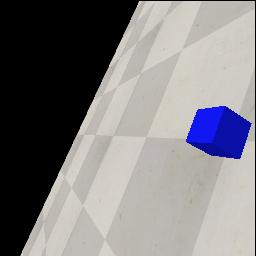box: (186, 106, 252, 159)
